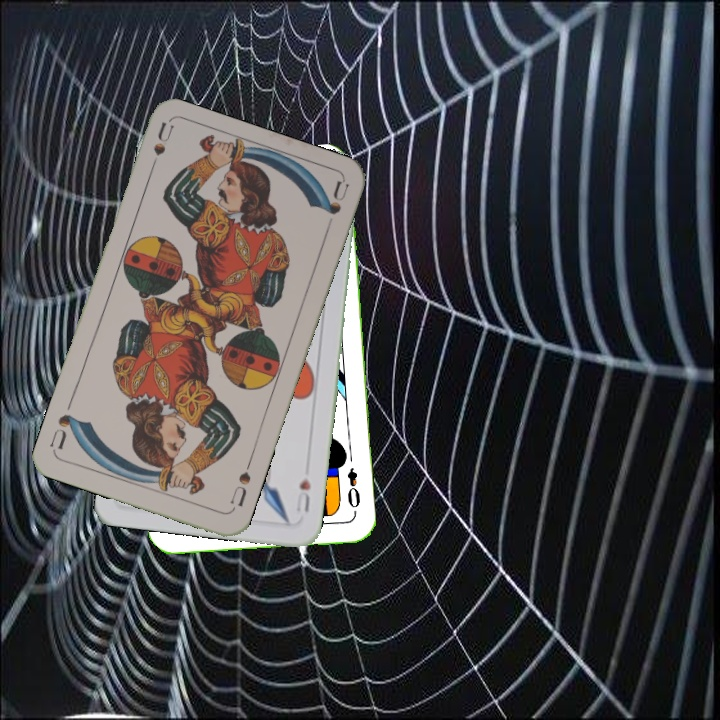EO: (343, 464, 363, 511)
HU: (292, 474, 313, 515)
SU: (144, 120, 176, 178), (226, 456, 255, 513)
